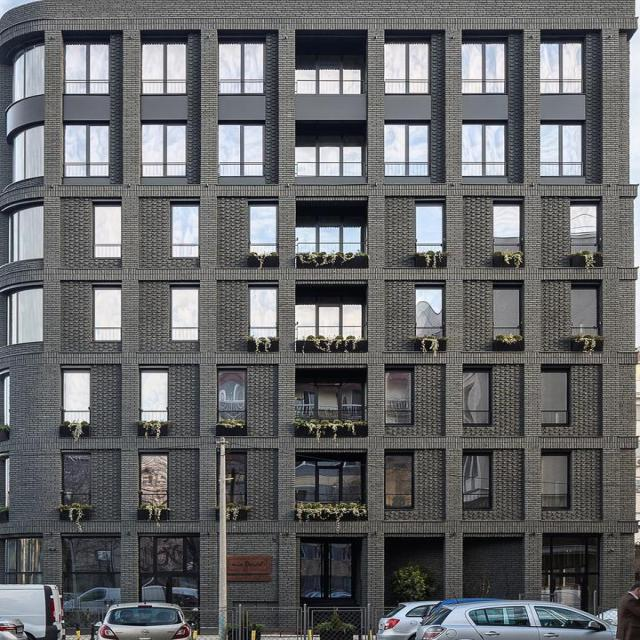door: (299, 539, 359, 608)
window: (138, 535, 199, 606), (62, 536, 123, 607), (542, 533, 603, 604), (291, 55, 366, 95), (295, 459, 363, 501), (297, 134, 364, 176), (294, 295, 361, 337), (295, 378, 365, 418), (138, 121, 188, 176), (139, 37, 188, 93), (462, 120, 508, 176), (539, 120, 585, 176), (383, 118, 428, 174), (540, 38, 584, 94), (462, 39, 506, 93), (386, 42, 430, 95), (3, 285, 42, 344), (8, 122, 47, 180), (5, 202, 44, 260), (218, 125, 263, 175), (6, 41, 44, 100), (219, 41, 263, 91), (65, 125, 108, 176), (66, 41, 108, 93), (295, 222, 362, 253), (2, 538, 45, 585), (494, 285, 522, 339), (414, 287, 442, 341), (384, 367, 412, 421), (92, 283, 120, 337), (60, 365, 88, 419), (216, 457, 244, 511), (140, 455, 168, 509), (542, 455, 569, 509), (465, 452, 492, 506), (382, 453, 409, 507), (540, 373, 567, 427), (464, 369, 491, 423), (418, 201, 445, 255), (93, 204, 120, 258), (171, 284, 198, 338), (248, 287, 275, 341), (216, 370, 243, 424), (140, 367, 167, 421), (62, 453, 89, 507), (172, 207, 200, 256), (496, 203, 523, 253), (574, 289, 600, 336), (572, 207, 598, 253), (251, 206, 277, 252), (2, 375, 12, 432)
